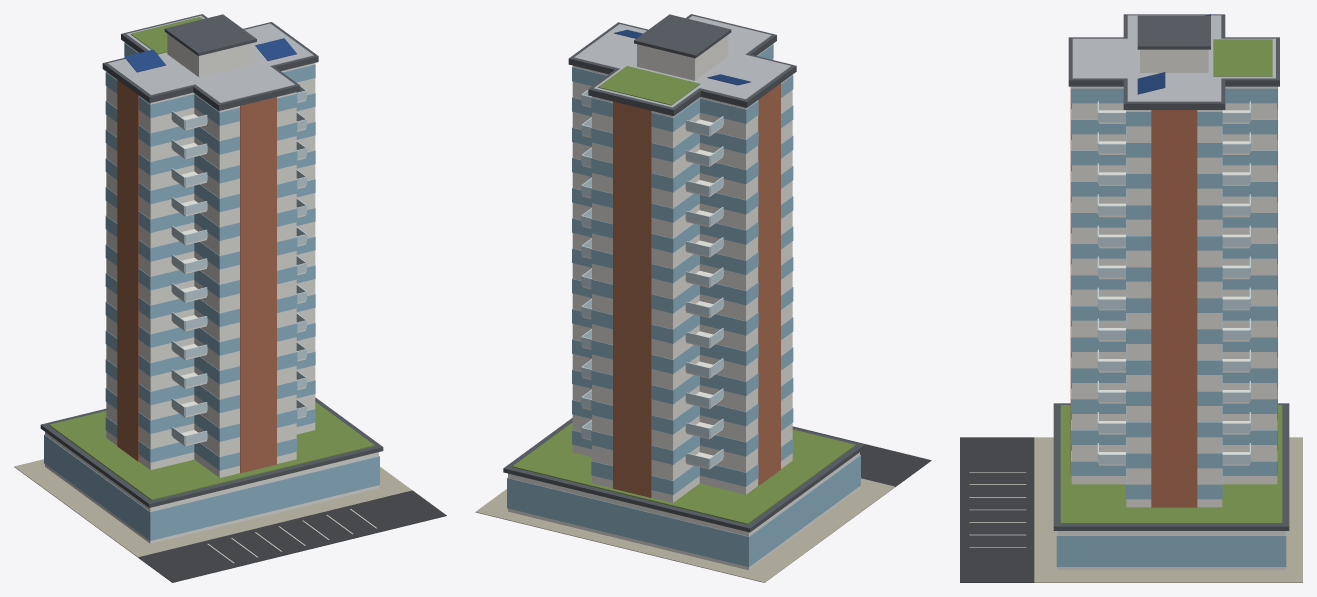
File: aptower.glb
3 renders of one model, left to right at view 1: azimuth 30°, elevation 25°; view 2: azimuth 150°, elevation 25°; view 3: azimuth 270°, elevation 25°, orthographic. The views are drawn at different scales.
Parts seen in each view (by area): view 1: aptower; view 2: aptower; view 3: aptower.
Part boxes in pixels (x1,y1,x2,y2): aptower: (14, 14, 446, 582); aptower: (475, 14, 931, 582); aptower: (960, 14, 1302, 582).
Size of the model in its own units: 30 by 46.3 by 30.
